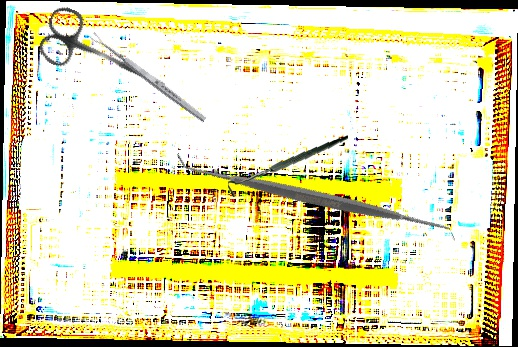Hook Surgical: (227, 125, 348, 208)
Iris Scissors: (33, 2, 178, 110)
Spatula Surgical: (176, 59, 456, 336)
Surgical Spoon: (89, 31, 208, 124)
